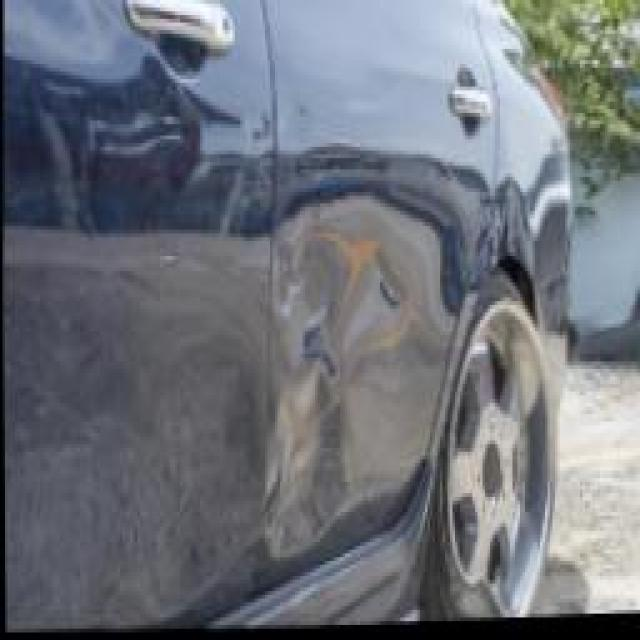Door: (260, 147, 461, 572)
Fender: (478, 147, 574, 297)
